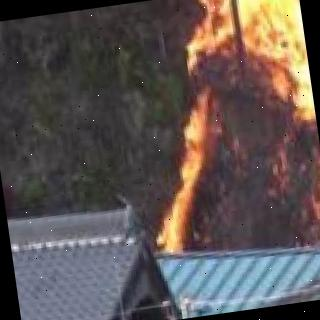fire: (129, 0, 320, 269)
